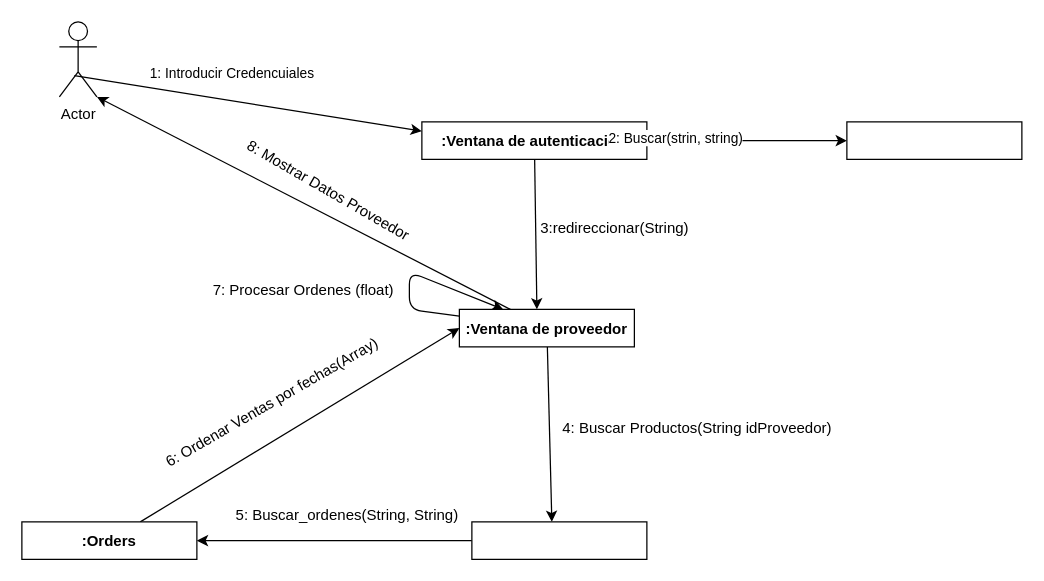
The diagram is 1044 pixels wide and 581 high, and some of its shapes have lost their labels. The box of each missing label's shape, as (x1, y1, x2, y2) in pixels:
: Usuario: (846, 121, 1022, 159)
:Proveedor_Producto: (471, 521, 647, 559)
